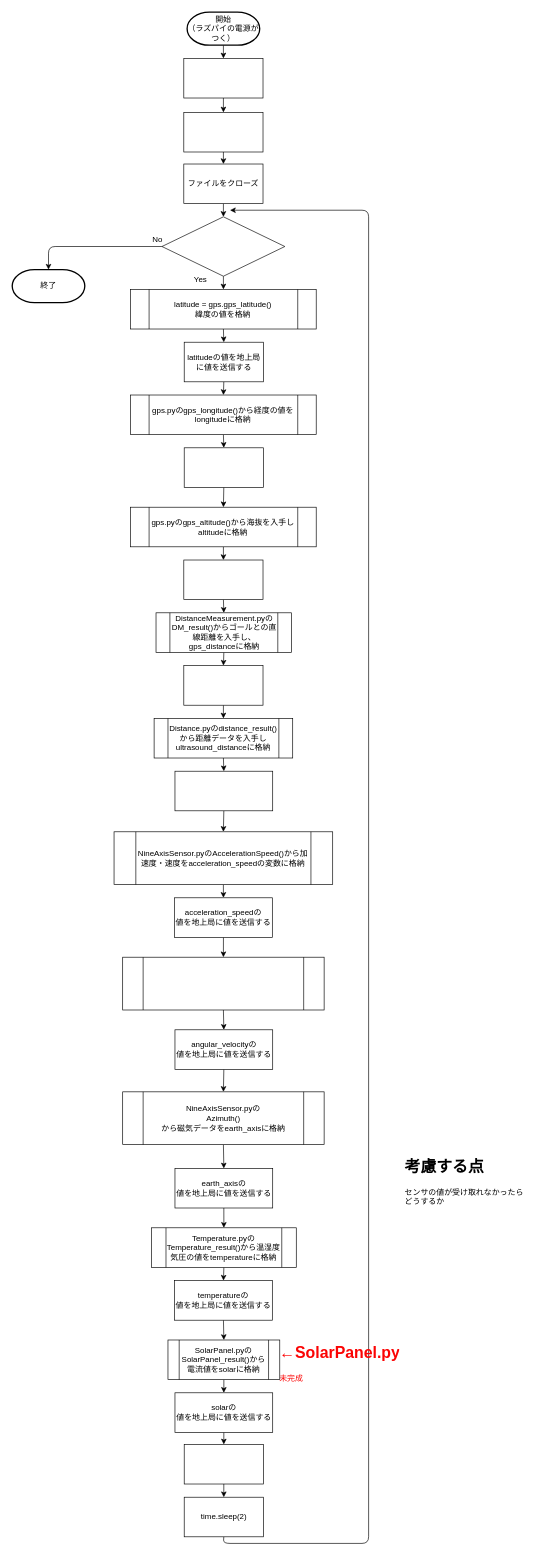
This 538x1560 diagram has some shape labels left out. The centre of each missing label's shape, as x and y in pixels:
altitudeの値を地上局に値を送信する: the point at 223,579
gps_distanceの値を地上局に値を送信する: the point at 223,685
longitudeの値を地上局に値を送信する: the point at 223,467
NineAxisSensor.pyの AngularVelocity()、 から角速度の値をangular_velocityに格納: the point at 223,983
ultrasound_distanceの 値を地上局に値を送信する: the point at 223,791
「sending+時刻」という名前のファイルを作成し、ファイルオープン: the point at 223,78
ラズパイの電源はついているか: the point at 223,246
ログ用のインデックスを作成: the point at 223,132
収集したすべてのデータを機体のSDカードにログを残す（csvファイル形式）: the point at 223,1464
